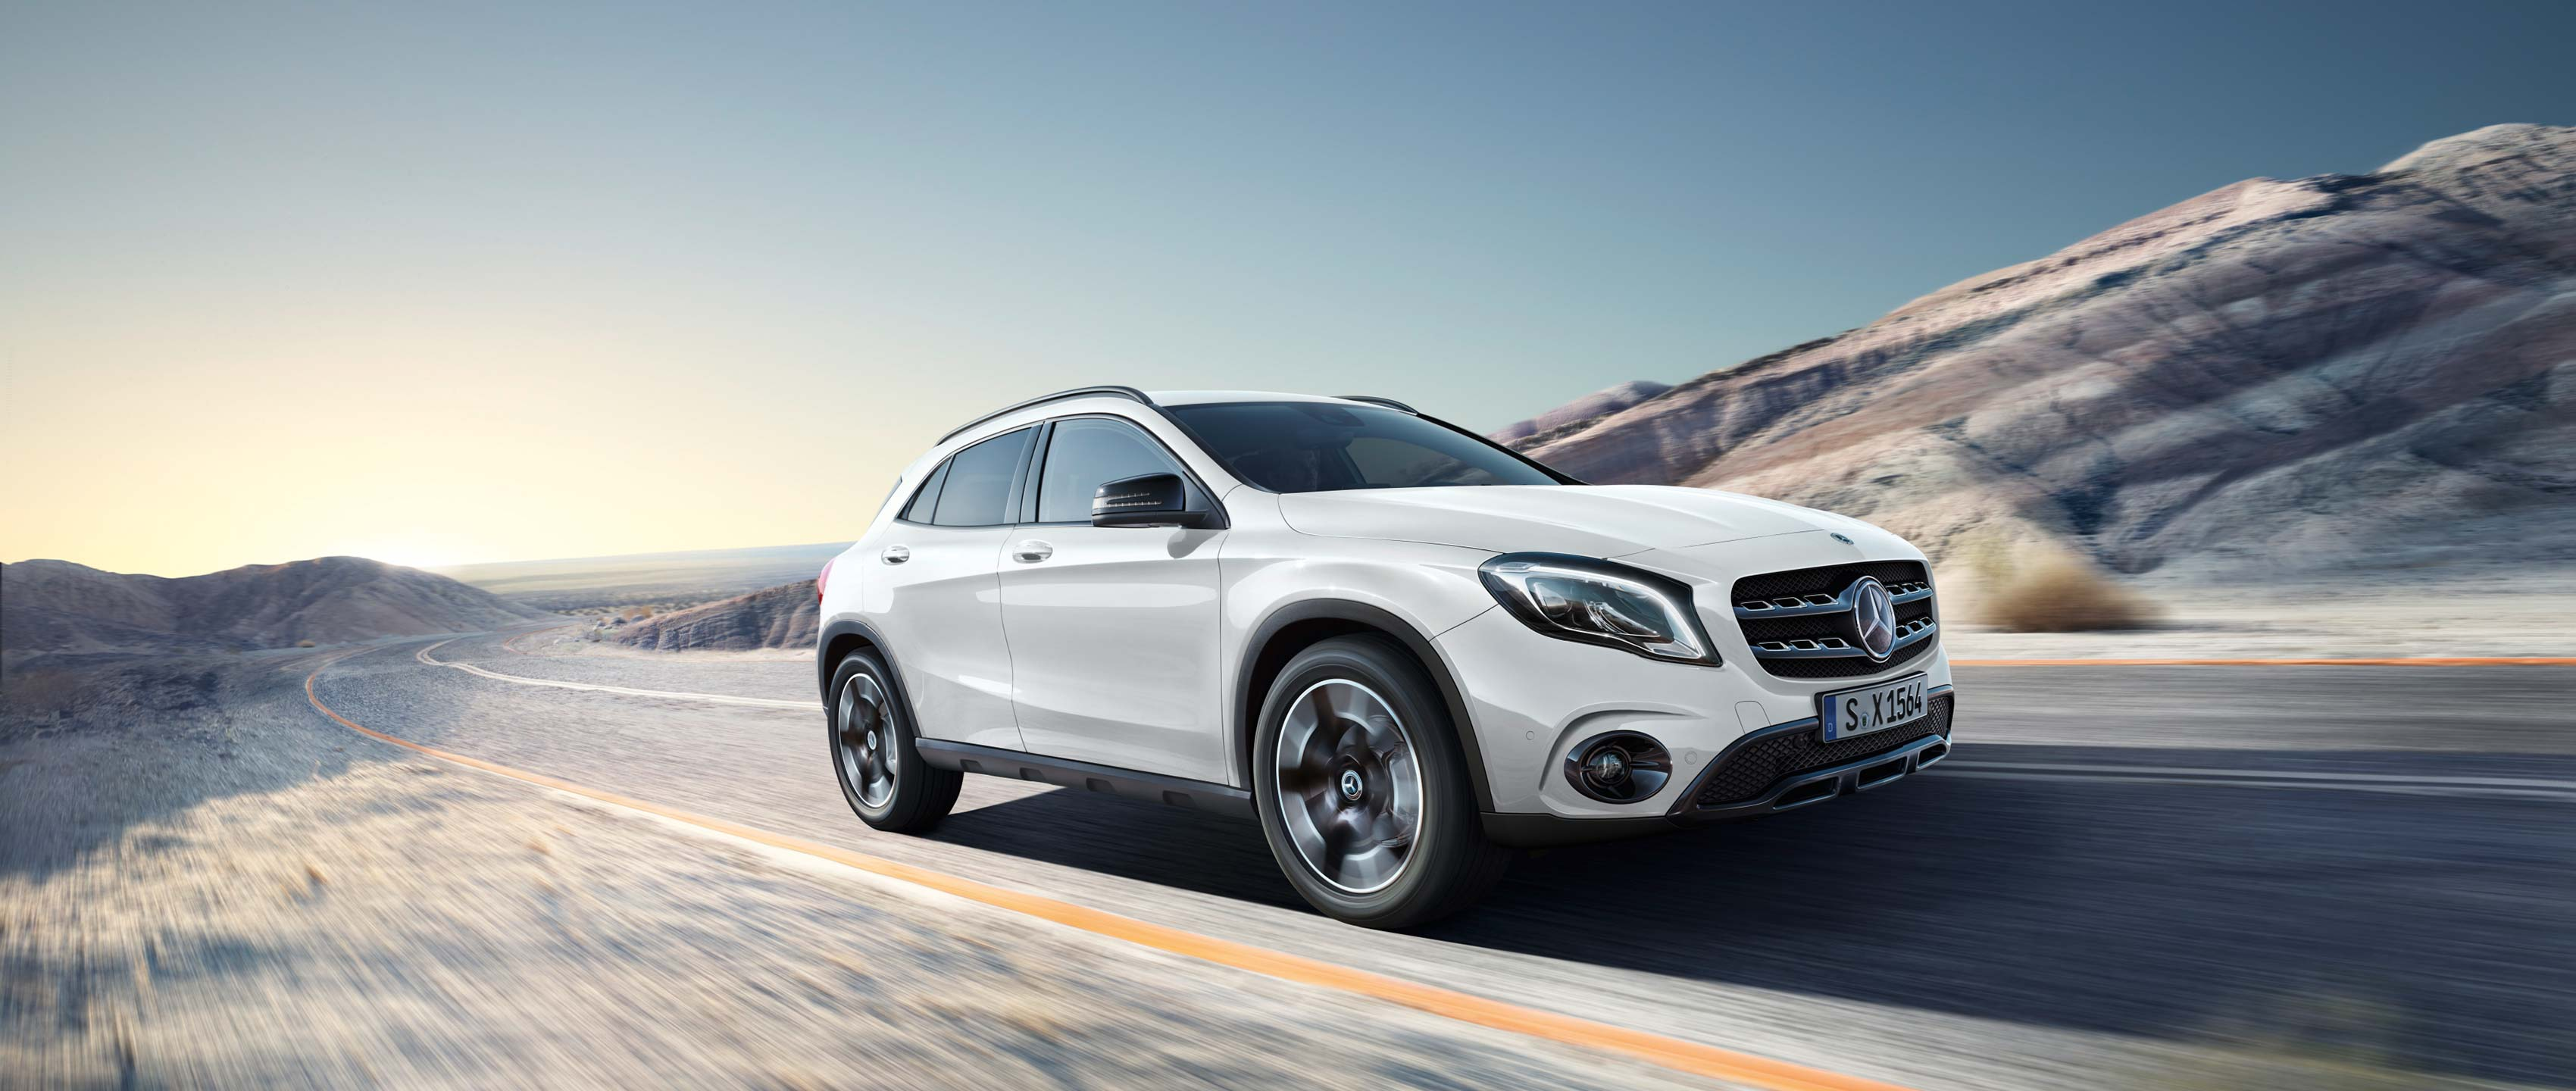gla: (797, 365, 2011, 940)
